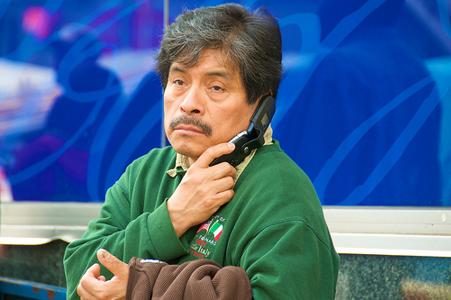person: (63, 5, 339, 299)
